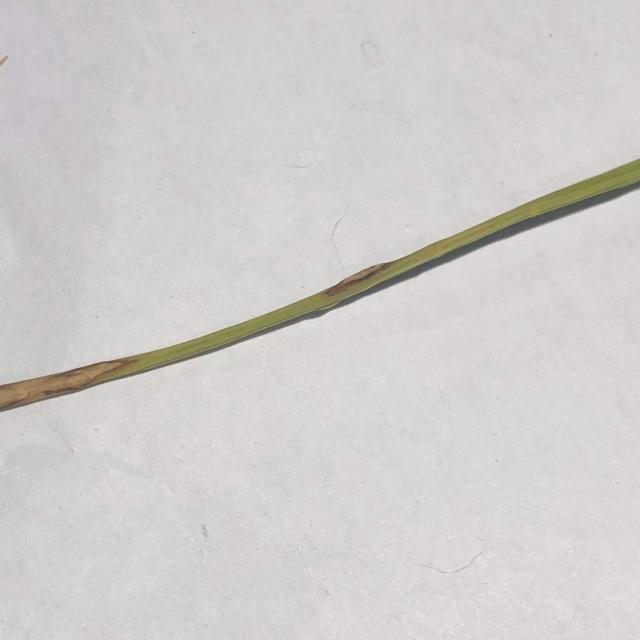Blast: (342, 264, 390, 288), (49, 376, 74, 389), (86, 369, 106, 381)
